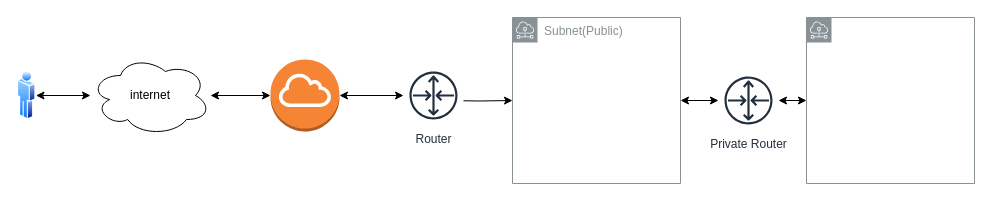
This 992x201 diagram has some shape labels left out. Each missing label, with the centre of its shape:
"IG" belongs at (x=305, y=95).
"Subnet(Private)" belongs at (x=890, y=100).
